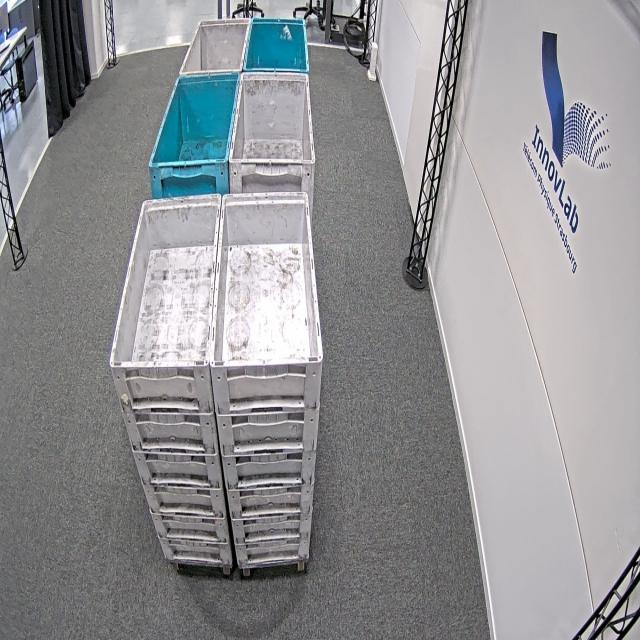Roll3G: (208, 190, 326, 371), (109, 190, 223, 369)
Roll4G: (228, 70, 317, 169), (178, 14, 253, 73)
RollB4: (145, 73, 243, 166), (242, 14, 312, 74)
